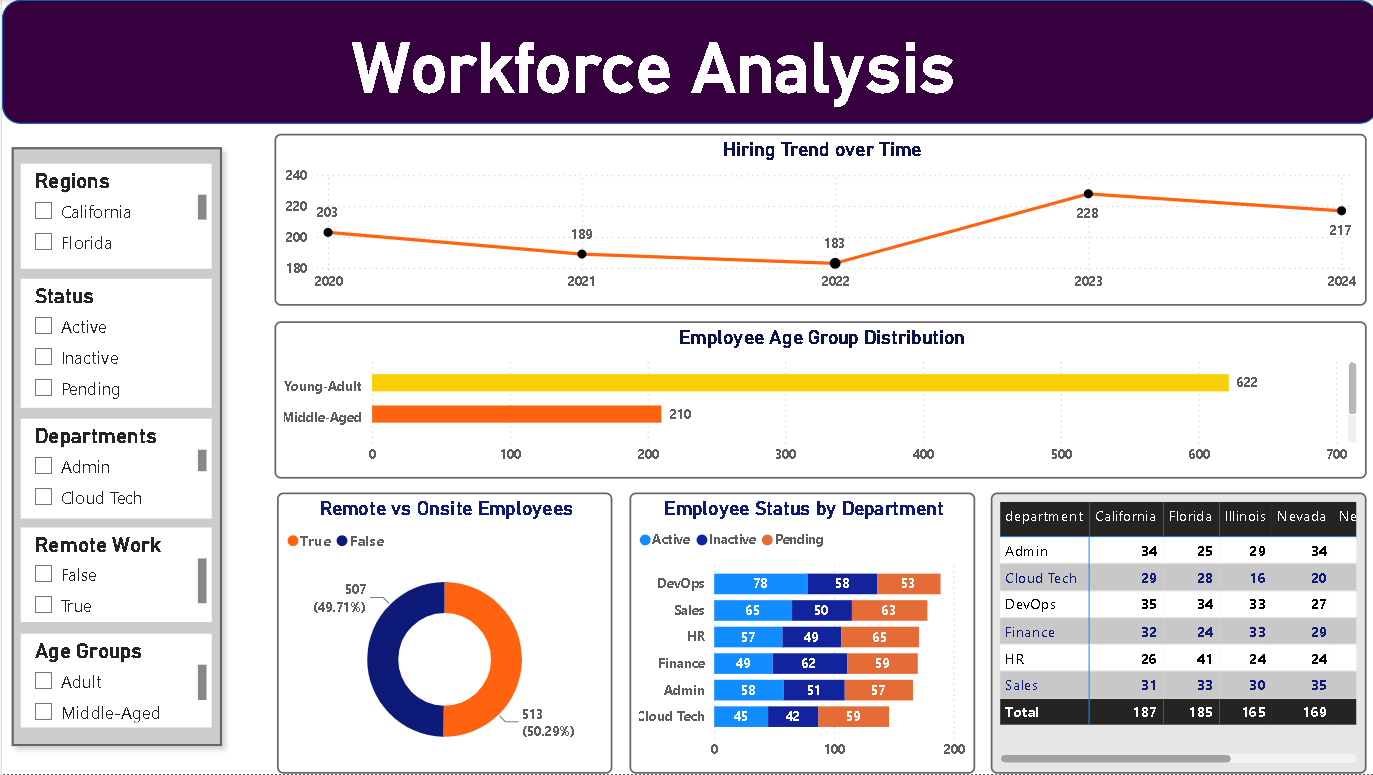

Layout of this report page (visuals, bound fields, positions):
{"tool":"powerbi","page":{"name":"Page 4","canvas":[1280,720],"ordinal":3},"visuals":[{"type":"shape","box":[0,0,1280,115.3],"z":0},{"type":"textbox","box":[319.4,1.2,666.4,127.3],"z":1000},{"type":"lineChart","title":"Hiring Trend over Time","fields":{"Category":["public employee_details.join_date.Variation.Date Hierarchy.Year","public employee_details.join_date.Variation.Date Hierarchy.Month"],"Y":["CountNonNull(public employee_details.employee_id)"]},"box":[253.4,124.9,1015.8,159.7],"z":2000},{"type":"clusteredBarChart","title":"Employee Age Group Distribution","fields":{"Category":["public employee_details.age_group"],"Y":["CountNonNull(public employee_details.employee_id)"]},"box":[253.4,299,1015.8,146.5],"z":3000},{"type":"donutChart","title":"Remote vs Onsite Employees","fields":{"Category":["public employee_details.remote_work"],"Y":["CountNonNull(public employee_details.employee_id)"]},"box":[255.8,458.2,312.2,261.8],"z":4000},{"type":"barChart","title":"Employee Status by Department","fields":{"Category":["public employee_details.department"],"Y":["CountNonNull(public employee_details.employee_id)"],"Series":["public employee_details.status"]},"box":[583.6,458.7,321.8,261.8],"z":5000},{"type":"pivotTable","fields":{"Rows":["public employee_details.department"],"Columns":["public employee_details.region"],"Values":["CountNonNull(public employee_details.employee_id)"]},"box":[919.8,458.7,349.4,261.8],"z":6000},{"type":"shape","box":[0,128.5,213.7,575.2],"z":7000},{"type":"slicer","fields":{"Values":["public employee_details.region"]},"box":[18,152.5,177.7,97.3],"z":8000},{"type":"slicer","fields":{"Values":["public employee_details.status"]},"box":[18,259.4,177.7,120.1],"z":9000},{"type":"slicer","fields":{"Values":["public employee_details.department"]},"box":[18,389,177.7,92.5],"z":10000},{"type":"slicer","fields":{"Values":["public employee_details.remote_work"]},"box":[18,491.1,177.7,87.7],"z":11000},{"type":"slicer","fields":{"Values":["public employee_details.remote_work"]},"box":[18,589.6,177.7,87.7],"z":12000}]}

Visuals, with their boxes in screenshot pixels (x1, y1, x2, y2), scaled from the page's 1280x720 canvas onto the 1373x775 screenshot:
shape: left=0, top=0, right=1372, bottom=124
textbox: left=343, top=1, right=1057, bottom=138
"Hiring Trend over Time" lineChart: left=272, top=134, right=1361, bottom=306
"Employee Age Group Distribution" clusteredBarChart: left=272, top=322, right=1361, bottom=480
"Remote vs Onsite Employees" donutChart: left=274, top=493, right=609, bottom=774
"Employee Status by Department" barChart: left=626, top=494, right=971, bottom=774
pivotTable - public employee_details.department x public employee_details.region: left=987, top=494, right=1361, bottom=774
shape: left=0, top=138, right=229, bottom=757
slicer - public employee_details.region: left=19, top=164, right=210, bottom=269
slicer - public employee_details.status: left=19, top=279, right=210, bottom=408
slicer - public employee_details.department: left=19, top=419, right=210, bottom=518
slicer - public employee_details.remote_work: left=19, top=529, right=210, bottom=623
slicer - public employee_details.remote_work: left=19, top=635, right=210, bottom=729
